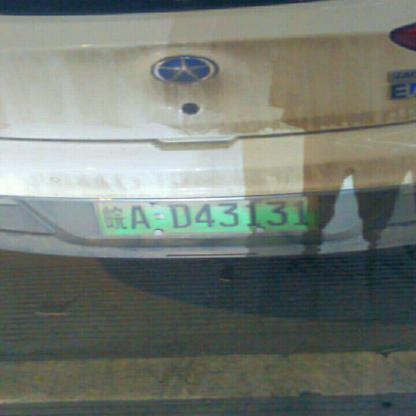lp: (94, 193, 320, 240)
